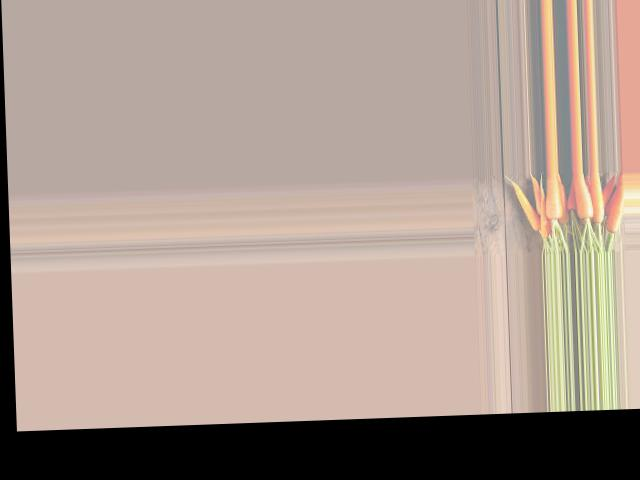carrot: (476, 142, 522, 240)
